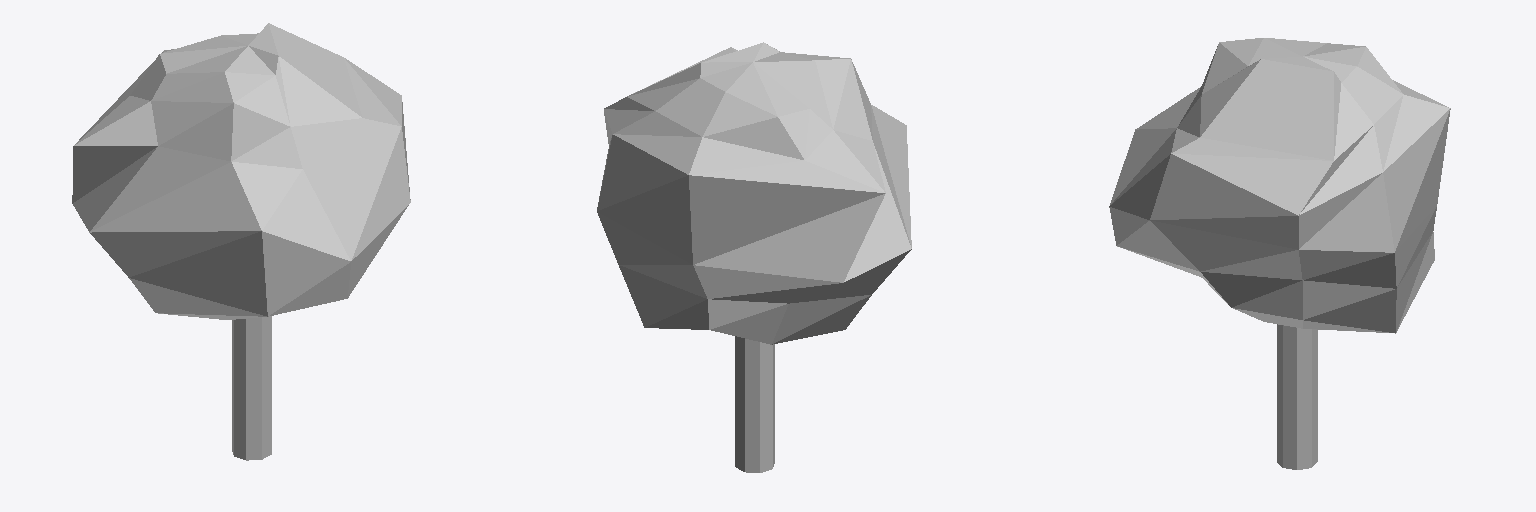
The model's file is tree_placeholder.obj.
The picture shows the model from 3 angles: view 1: azimuth 30°, elevation 25°; view 2: azimuth 150°, elevation 25°; view 3: azimuth 270°, elevation 25°; orthographic projection.
Parts seen in each view (by area): view 1: tree_PH; view 2: tree_PH; view 3: tree_PH.
Part boxes in pixels (left/top/right/bottom): tree_PH: left=72, top=23, right=410, bottom=460; tree_PH: left=597, top=42, right=911, bottom=472; tree_PH: left=1109, top=38, right=1450, bottom=469.
Bounding box in the file's own units: 5.25 × 6.58 × 5.